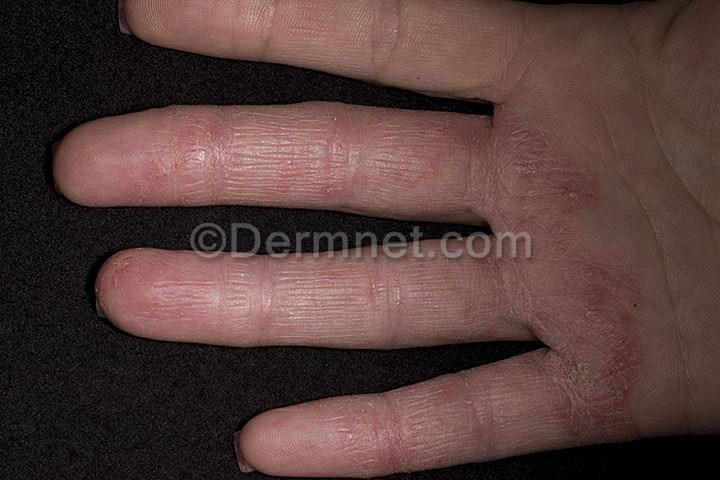Eczema: (529, 269, 651, 402), (373, 249, 502, 347), (481, 120, 597, 218), (159, 111, 277, 187), (334, 135, 451, 204), (352, 406, 459, 469), (187, 269, 267, 337)
